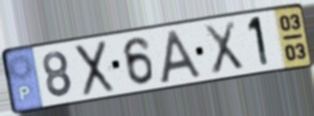1: (244, 14, 271, 70)
6: (121, 35, 156, 87)
8: (41, 50, 75, 99)
A: (158, 27, 205, 86)
X: (201, 19, 246, 78), (74, 38, 117, 99)
